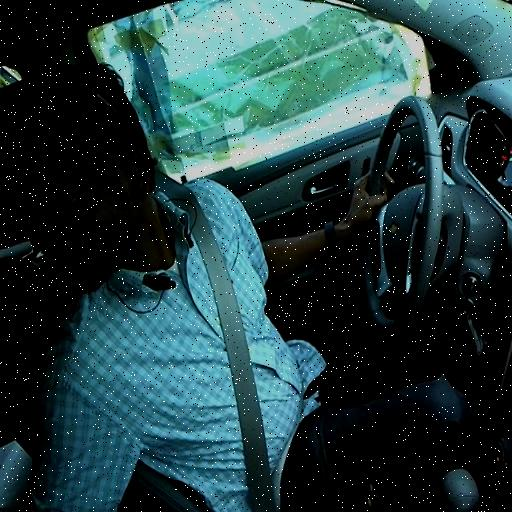turning: (24, 64, 451, 414)
